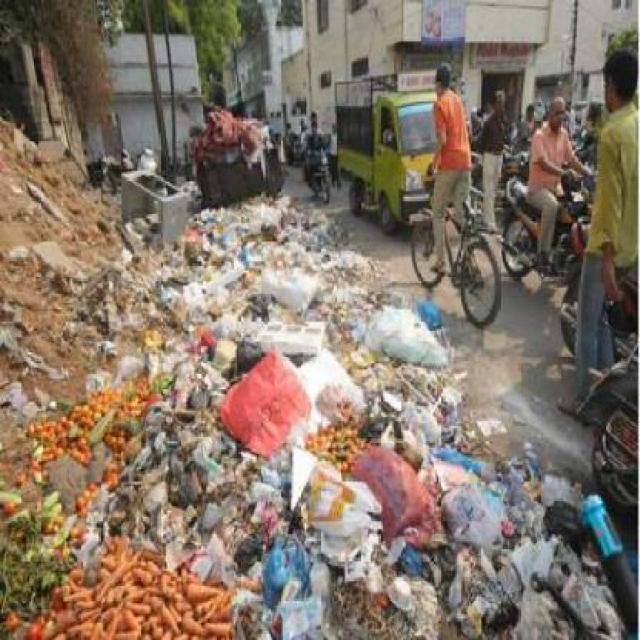garbage: (51, 403, 430, 638), (168, 196, 340, 639), (405, 470, 634, 636), (348, 294, 448, 385), (192, 97, 276, 192)
